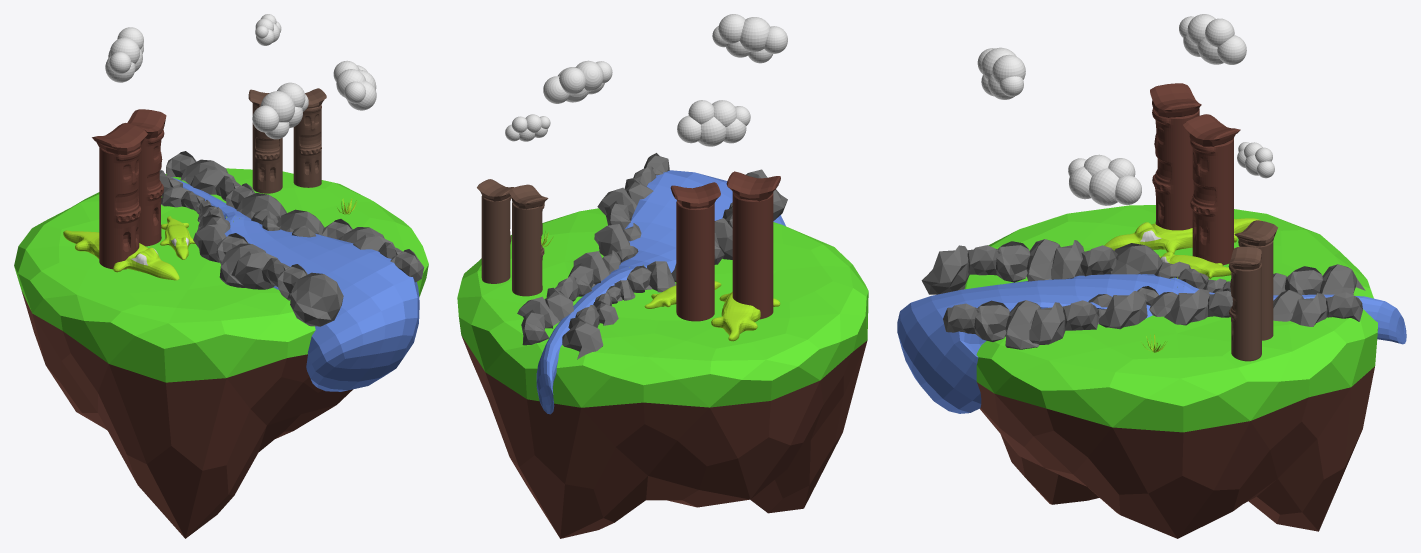
Rendered from Origin Island.fbx.
3 renders of one model, left to right at view 1: azimuth 30°, elevation 25°; view 2: azimuth 150°, elevation 25°; view 3: azimuth 270°, elevation 25°, orthographic. The views are drawn at different scales.
Visible parts, largest first — view 1: Island.002, River, River Stone, Totem, Totem.001, Totem.002, Cloud.009, Totem.003, Cube.002, Cloud.008, Cloud.005, Cube.003 (+1 smaller); view 2: Island.002, River Stone, River, Totem, Totem.001, Totem.003, Totem.002, Cloud.008, Cloud.009, Cloud.005, Cube.002, Cloud.007 (+1 smaller); view 3: Island.002, River Stone, River, Totem.001, Totem, Totem.002, Cloud.005, Cloud.008, Cloud.009, Totem.003, Cube.002, Cloud.007 (+1 smaller).
Part boxes in pixels (x1,y1,x2,y2): Island.002: (14,168,428,538); River: (171,177,419,391); River Stone: (159,151,424,326); Totem: (92,123,147,269); Totem.001: (127,109,166,246); Totem.002: (293,88,326,187); Cloud.009: (252,82,308,139); Totem.003: (248,89,282,193); Cube.002: (63,230,179,280); Cloud.008: (105,27,143,82); Cloud.005: (333,60,376,110); Cube.003: (160,216,195,259); Island.002: (457,208,868,538); River Stone: (517,153,787,359); River: (536,170,785,414); Totem: (726,171,780,319); Totem.001: (670,182,720,321); Totem.003: (508,184,548,296); Totem.002: (477,179,513,283); Cloud.008: (677,100,750,146); Cloud.009: (712,14,787,63); Cloud.005: (543,60,612,103); Cube.002: (711,292,780,341); Cloud.007: (505,114,550,141); Island.002: (964,205,1377,538); River Stone: (921,239,1365,349); River: (897,274,1406,413); Totem.001: (1183,114,1240,265); Totem: (1150,83,1201,230); Totem.002: (1228,246,1261,361); Cloud.005: (1068,154,1141,205); Cloud.008: (1179,14,1246,64); Cloud.009: (977,47,1025,99); Totem.003: (1234,220,1277,340); Cube.002: (1104,218,1260,253); Cloud.007: (1237,142,1274,178).
Size of the model in its own units: 385 by 469 by 437.
